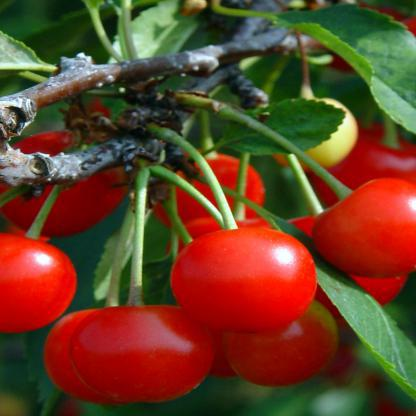tomato: (162, 222, 321, 346), (70, 300, 215, 402), (140, 141, 268, 238), (309, 174, 415, 288), (227, 301, 342, 389), (0, 236, 83, 337)
